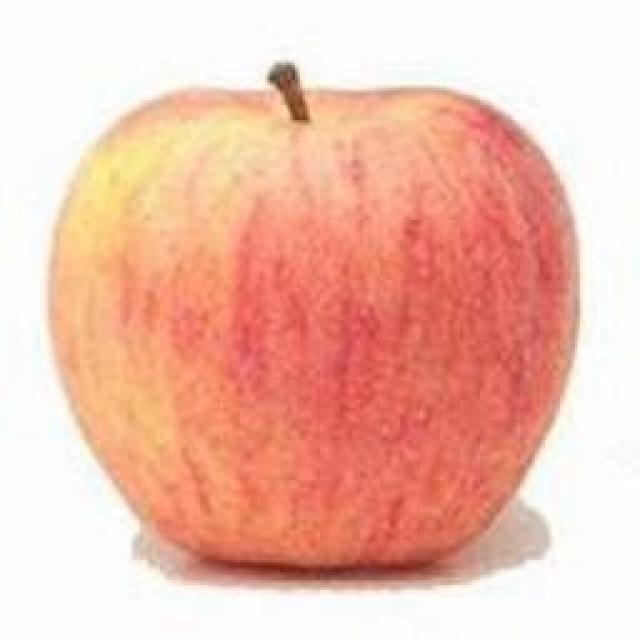apple: (46, 60, 581, 572)
